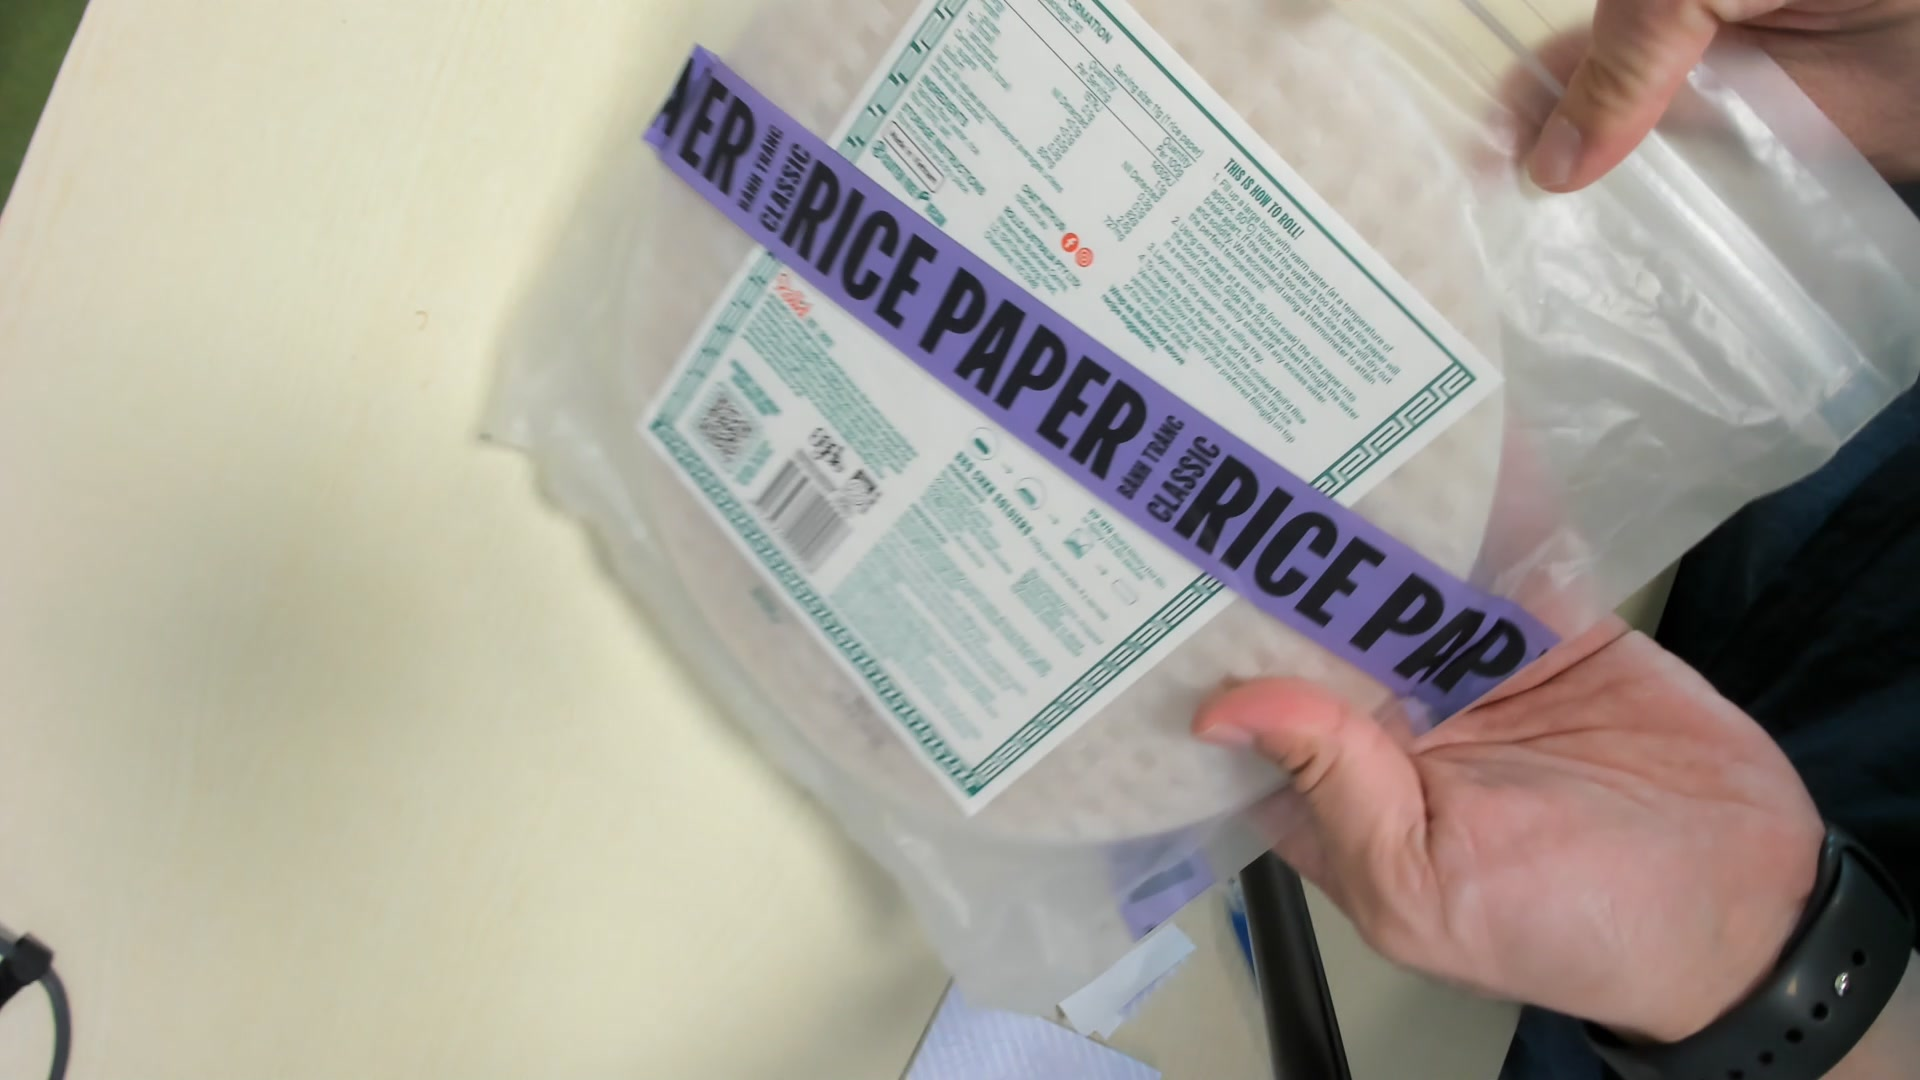InstantMeals_300_399g_NonHalal_NonHealthy: (487, 7, 1919, 993)
